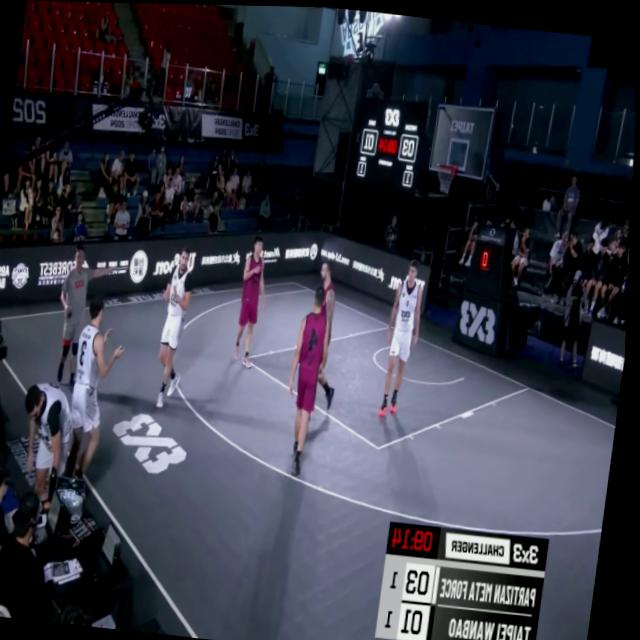hoop: (434, 153, 461, 196)
player: (62, 286, 134, 482), (278, 279, 335, 479), (380, 254, 431, 419), (305, 254, 354, 417), (150, 246, 197, 414), (231, 235, 270, 370)
